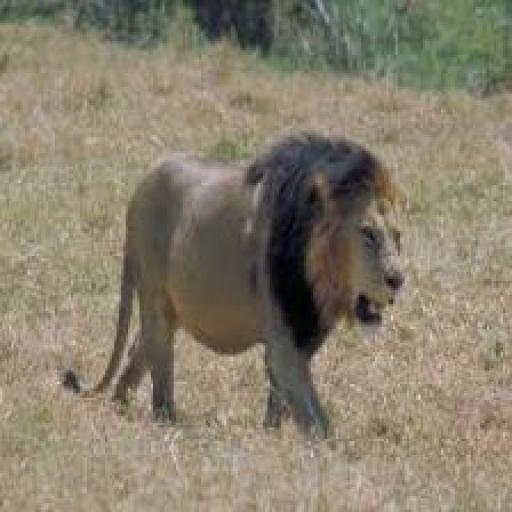lion: (37, 98, 473, 464)
